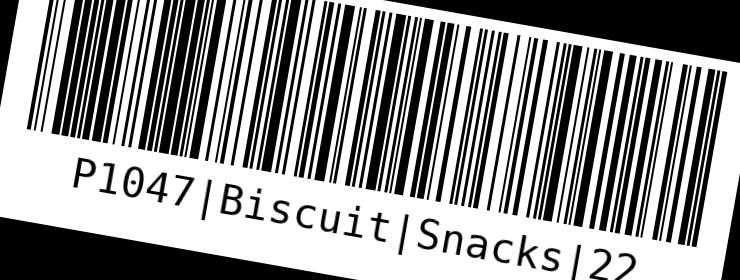milk: (8, 0, 738, 279)
